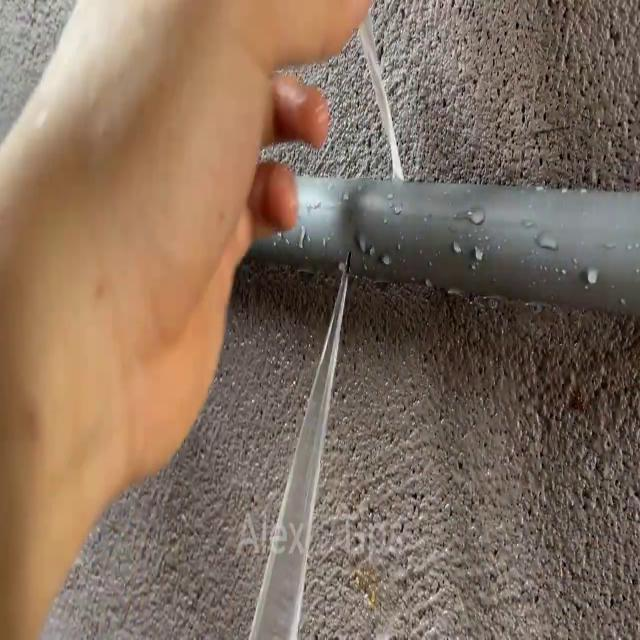leak: (251, 263, 349, 640)
